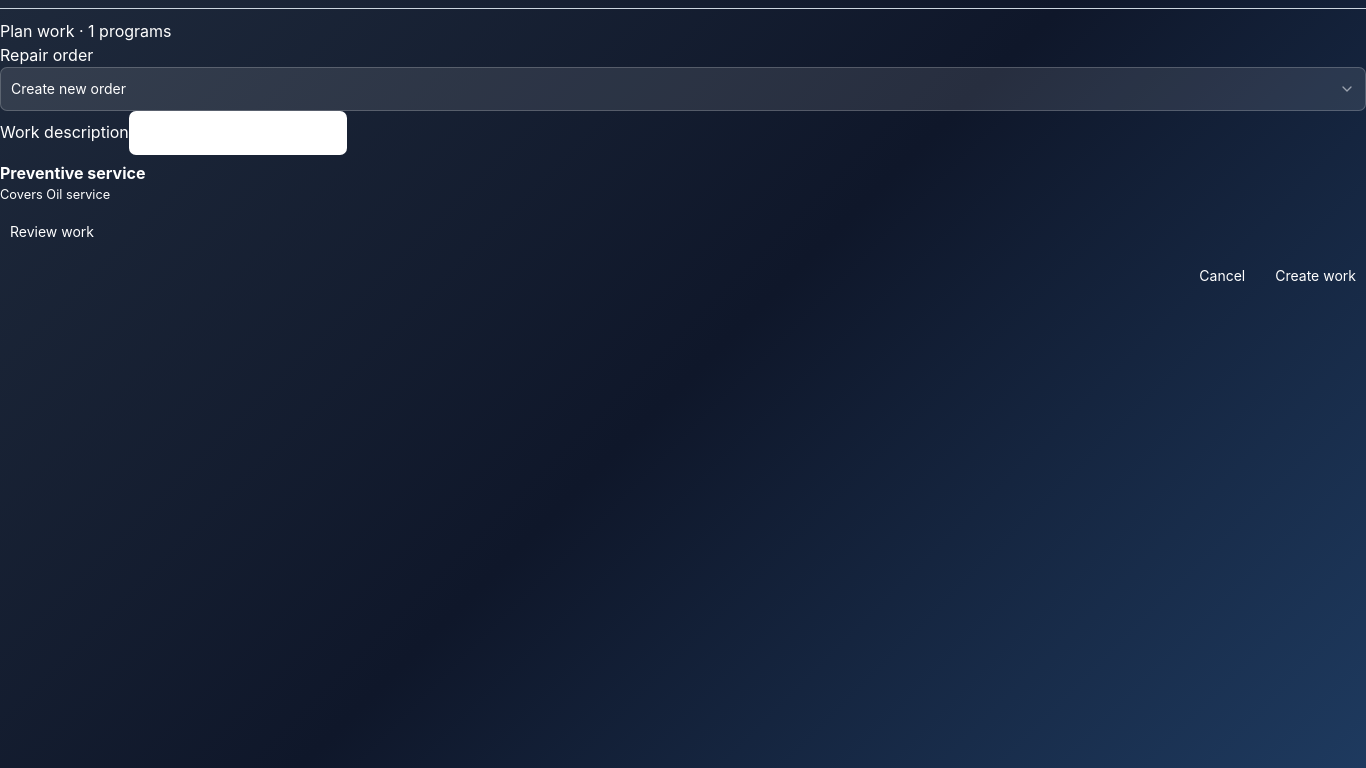
Test: aggregate maintenance work › does not present current policy as the price of retained work (new work: false)
Click the dropdown named "Repair order" at [68, 88], box [0,67,1365,111]
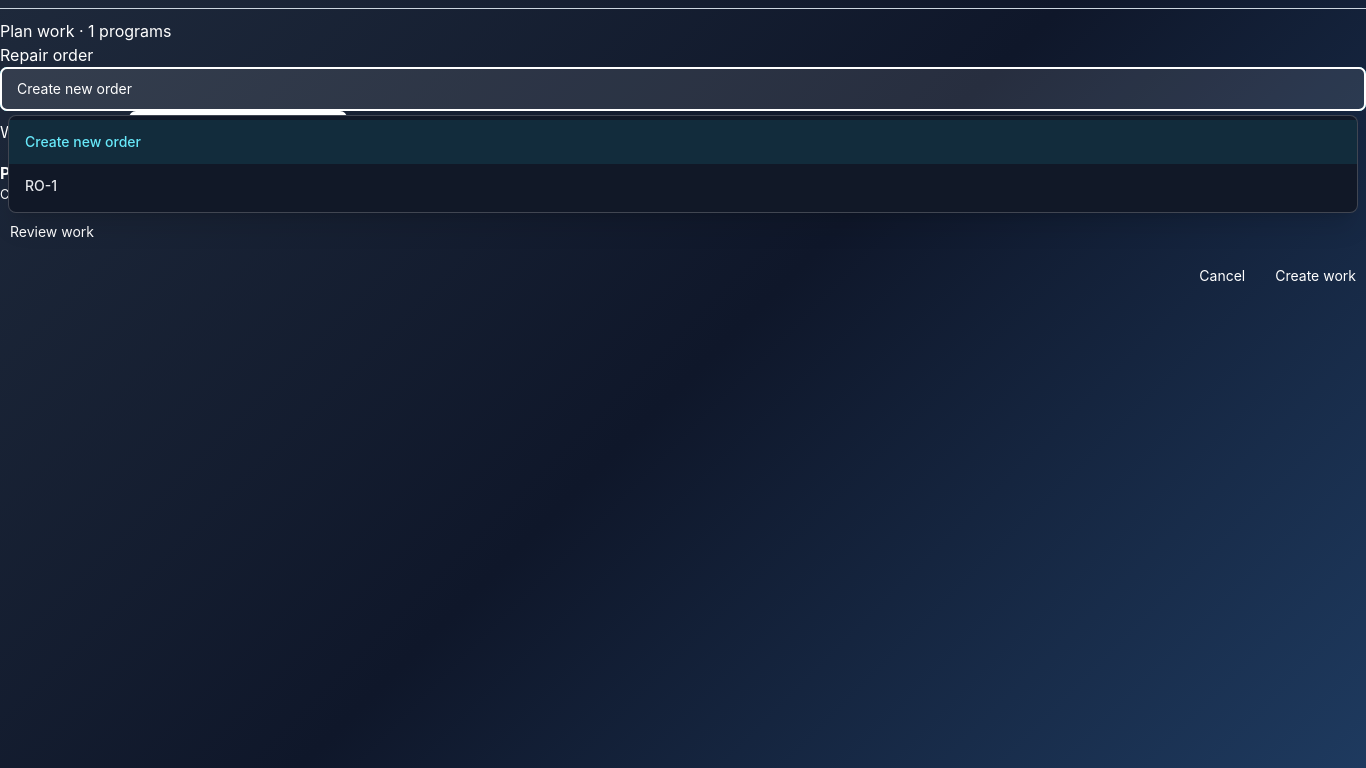
Click the option "RO-1" at [41, 186], box [9,164,1357,208]
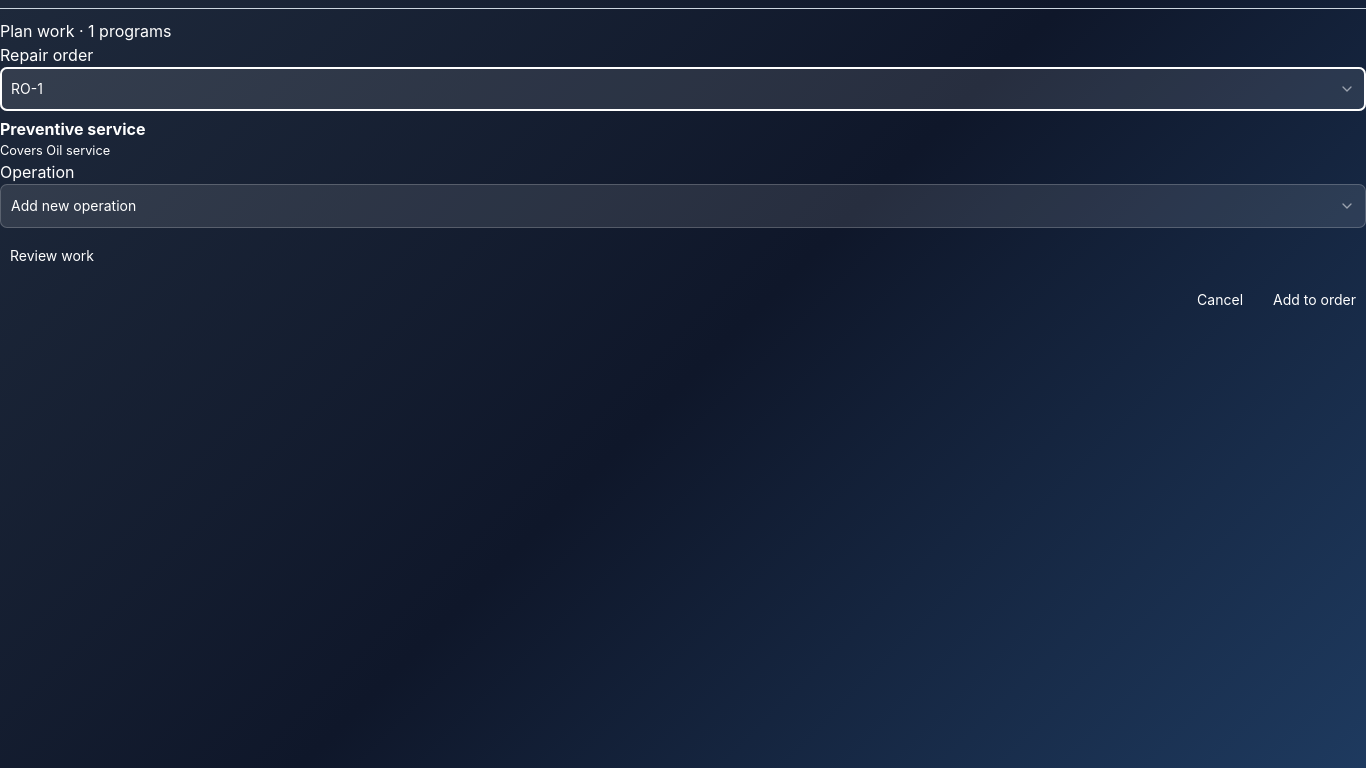
Click the dropdown labelled "operation" at [74, 206], box [0,184,1365,228]
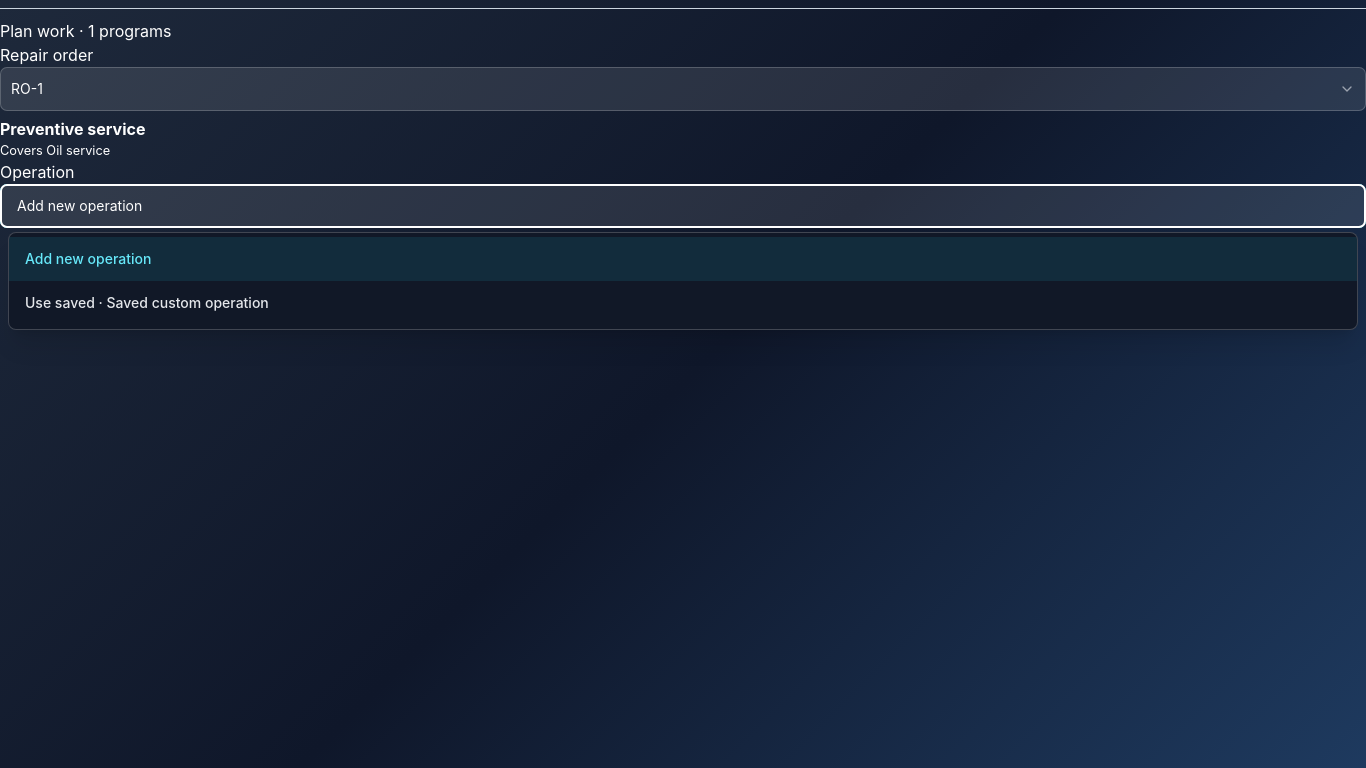
Click the option "Use saved · Saved custom operation" at [147, 303], box [9,281,1357,325]
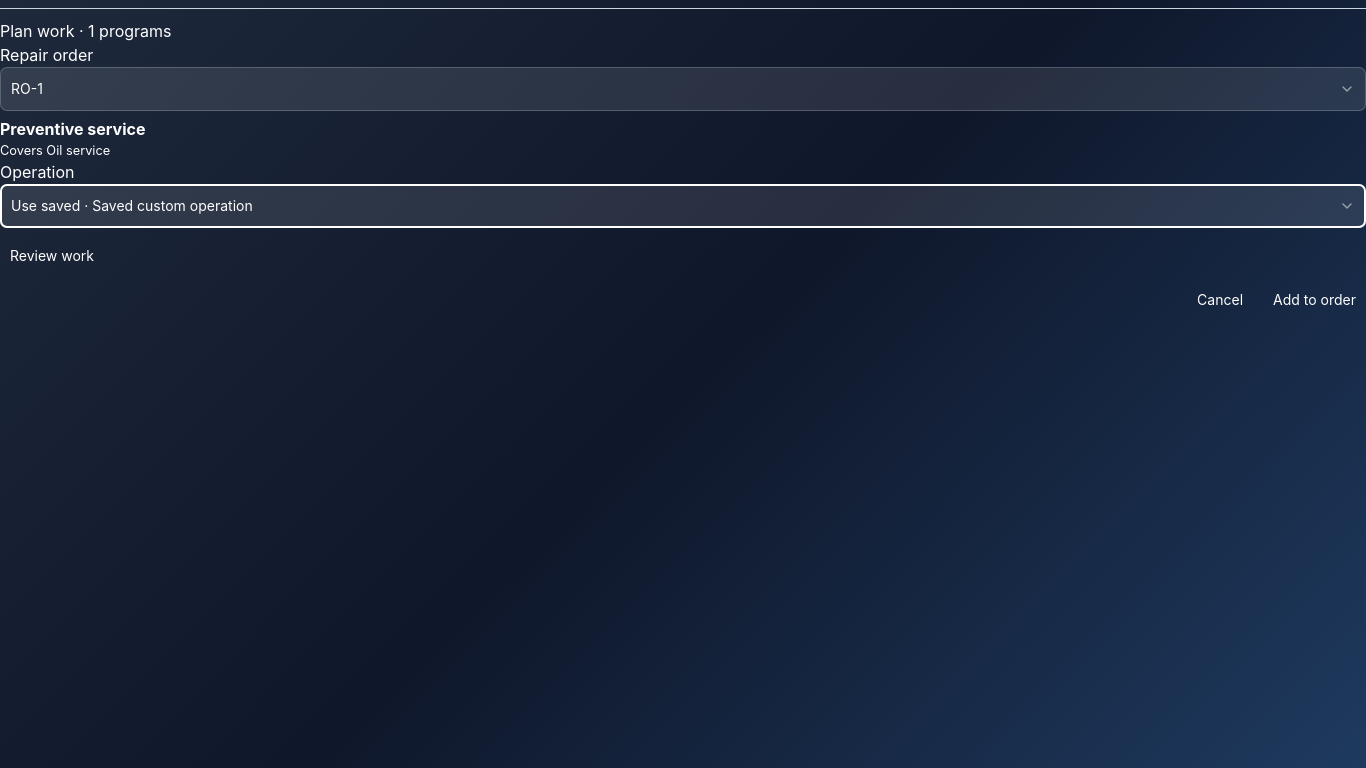
Click the button "Review work" at [52, 256], box [0,234,104,278]
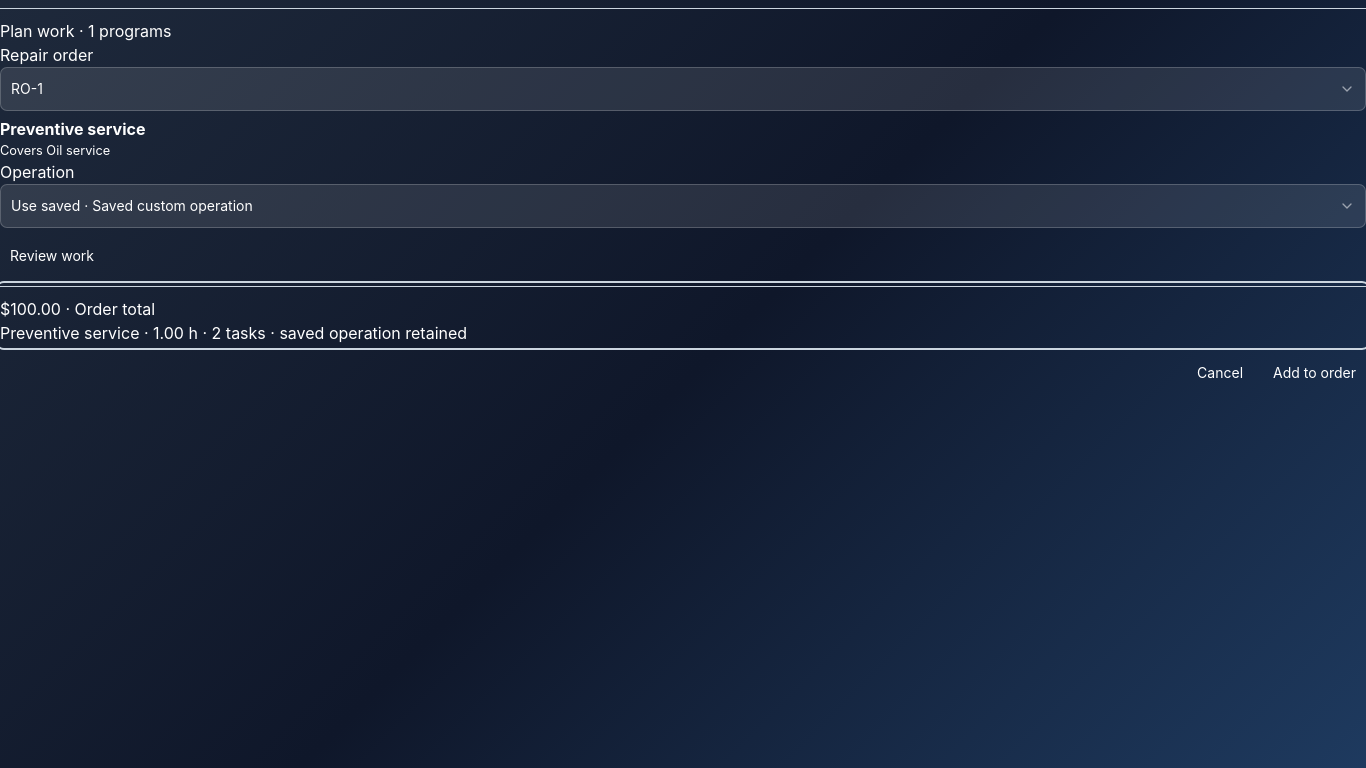
Result: the element named "Work confirmation" is shown at [0,286,1365,345]
Result: the text "saved operation retained" is shown at [266,323,467,343]
